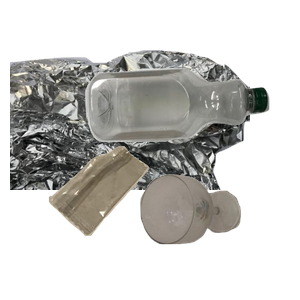glass: (138, 172, 300, 300)
metal: (10, 47, 250, 227)
plastic: (83, 66, 300, 201)
trash: (46, 144, 188, 300)
